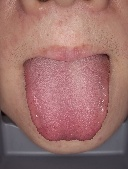tongue: (23, 63, 109, 142)
